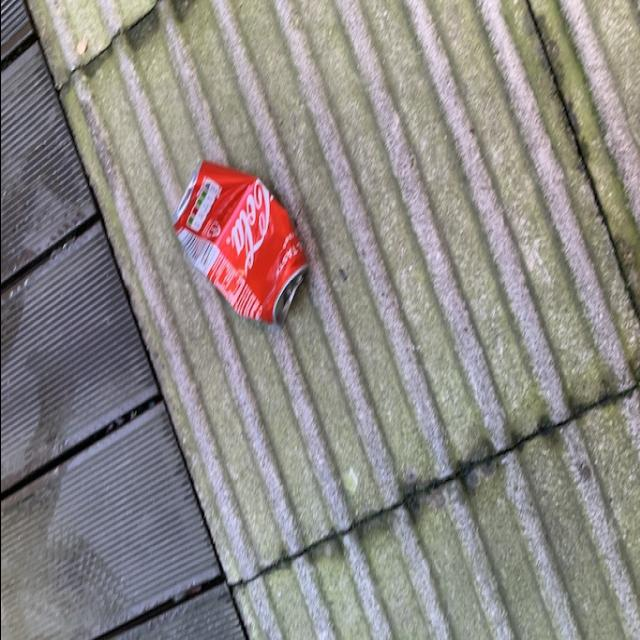Aluminum Can: (165, 158, 311, 332)
